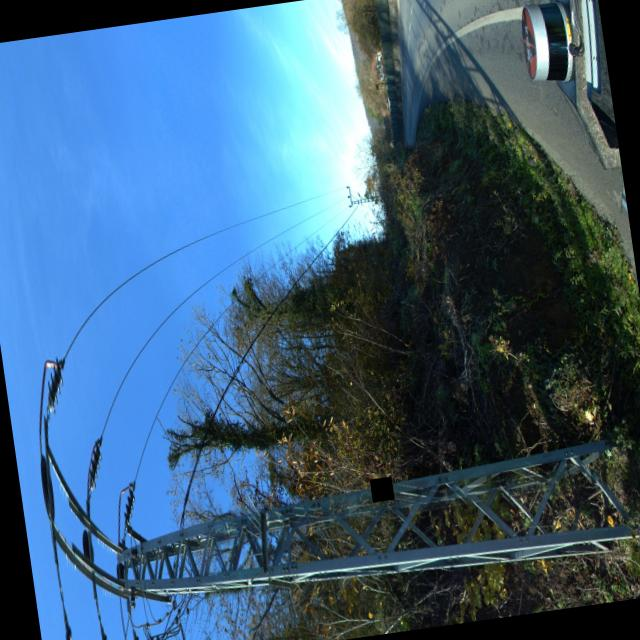Utility Pole Information Plate: (370, 475, 394, 501)
